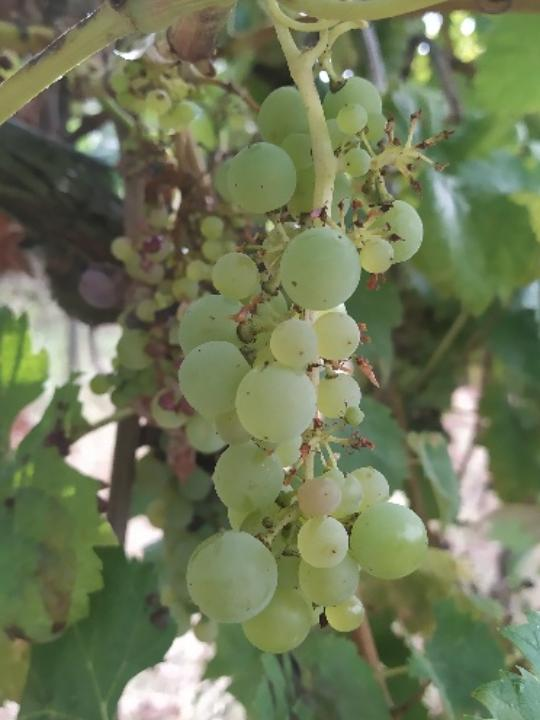grape: (171, 68, 431, 658)
